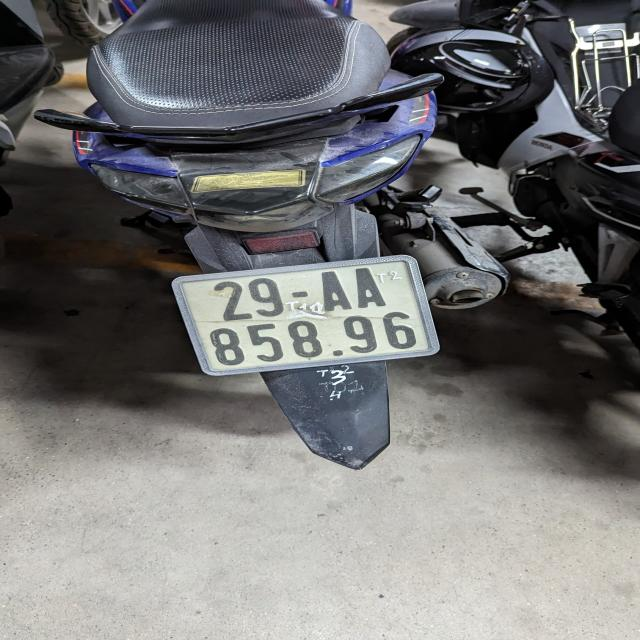License: (170, 254, 441, 376)
